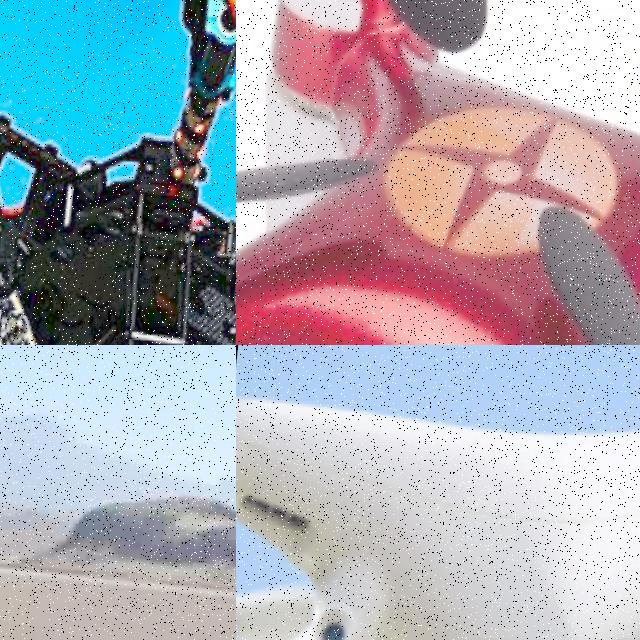drone: (236, 0, 640, 345), (236, 345, 640, 640), (0, 0, 236, 345)
